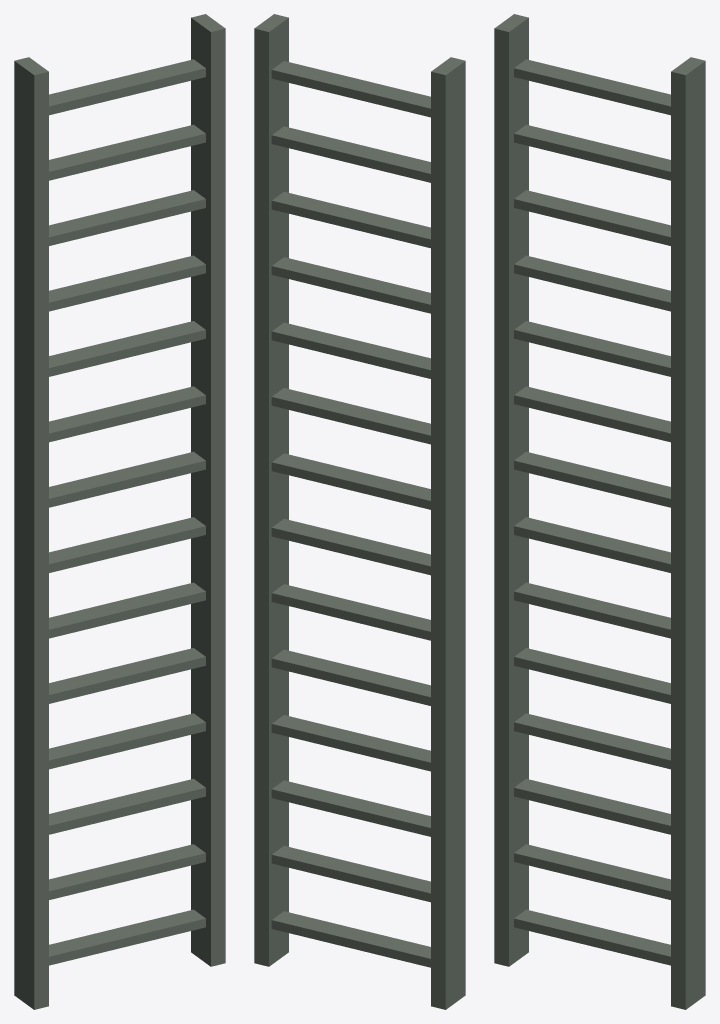
The model's file is SM_ladder_01.fbx.
3 renders of one model, left to right at view 1: azimuth 30°, elevation 25°; view 2: azimuth 150°, elevation 25°; view 3: azimuth 330°, elevation 25°, orthographic.
Parts seen in each view (by area): view 1: ladder_01; view 2: ladder_01; view 3: ladder_01.
Boxes of the visible parts, left/top/right/bottom form: ladder_01: left=14, top=14, right=225, bottom=1009; ladder_01: left=254, top=14, right=465, bottom=1009; ladder_01: left=494, top=14, right=705, bottom=1009.
Size of the model in its own units: 50.5 by 236 by 9.07.
